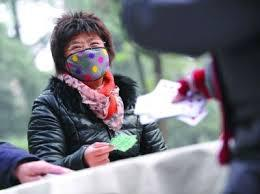OK: (63, 35, 110, 82)
